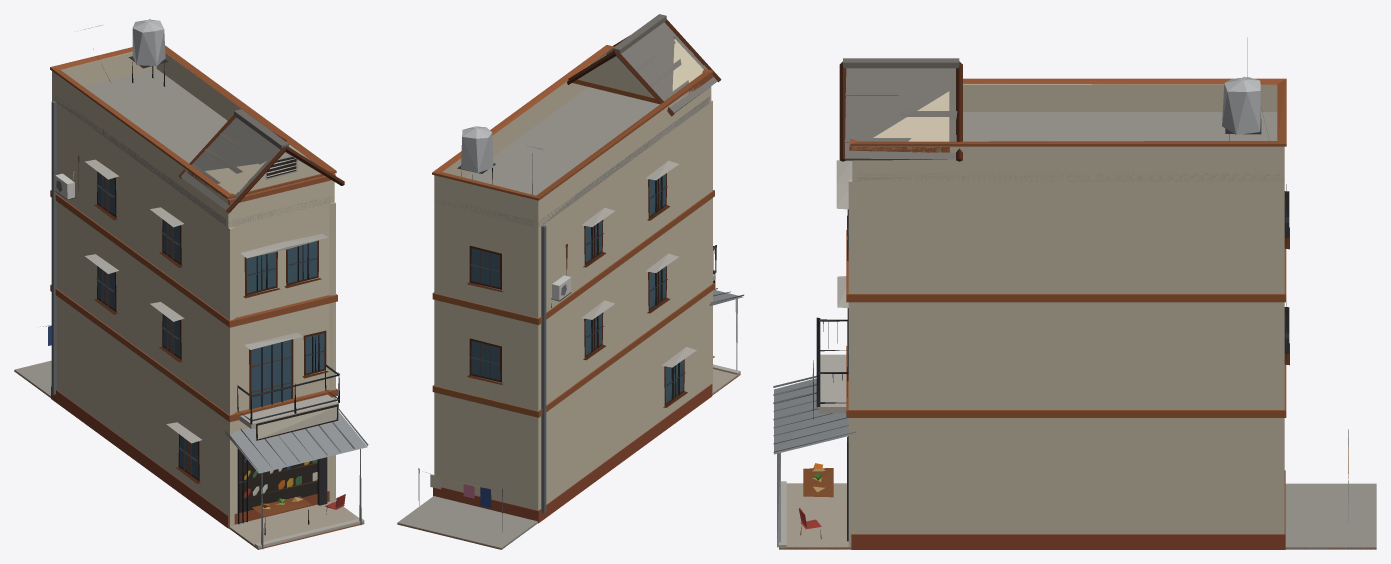
Rendered from bay2_left.glb.
3 views of the same model, side by side, from view 1: azimuth 30°, elevation 25°; view 2: azimuth 150°, elevation 25°; view 3: azimuth 270°, elevation 25° (orthographic). The views are drawn at different scales.
Visible parts, largest first — view 1: body, windows; view 2: body, windows; view 3: body.
Part boxes in pixels (x1=…): body: x1=14, y1=19, x2=368, y2=549; windows: x1=98, y1=157, x2=324, y2=512; body: x1=397, y1=14, x2=743, y2=549; windows: x1=471, y1=173, x2=683, y2=403; body: x1=773, y1=37, x2=1376, y2=549.
Bounding box in the file's own units: 4.66 × 14.05 × 16.06.
